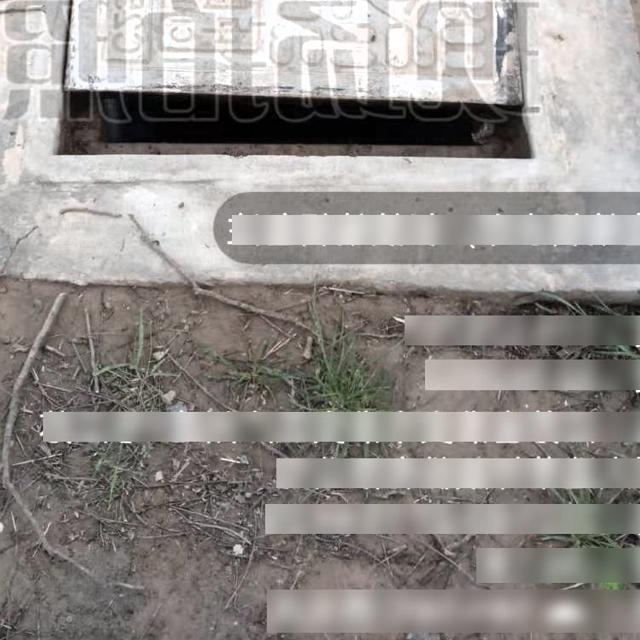uncovered: (24, 0, 537, 185)
